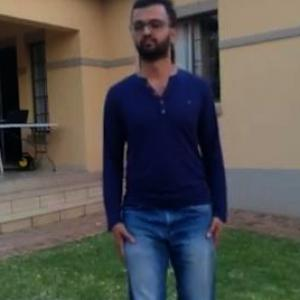follow: (108, 8, 220, 299)
